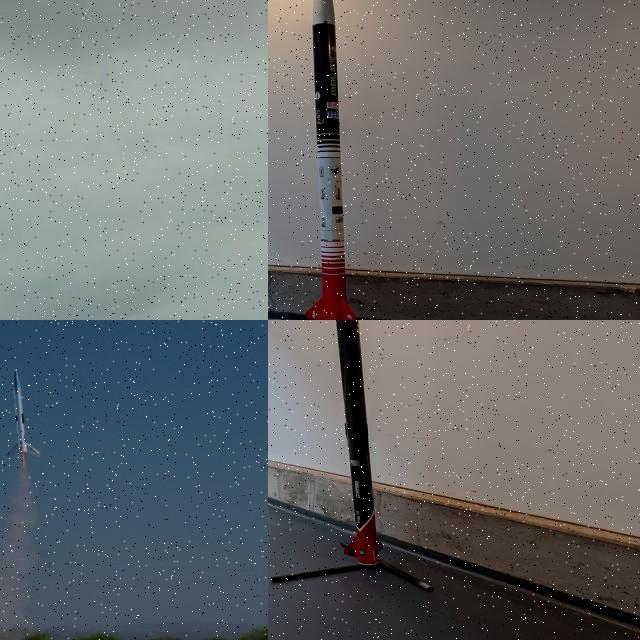Rocket: (305, 0, 356, 320), (336, 320, 383, 566), (4, 368, 44, 459)
